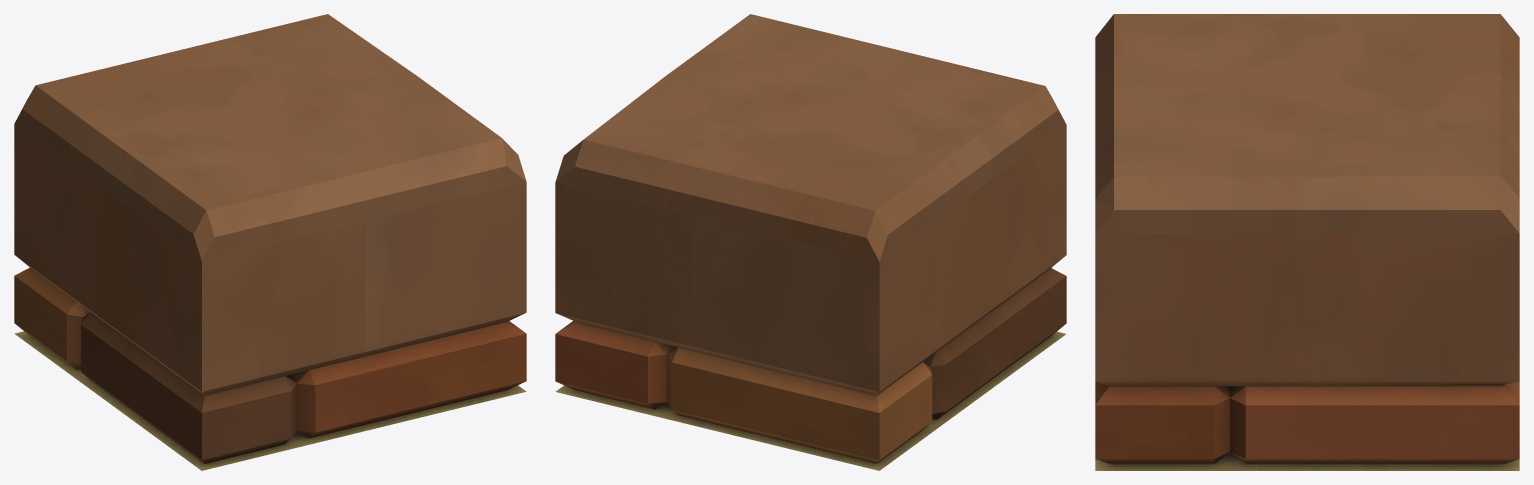
Rendered from I-Mur1A.FBX.
The picture shows the model from 3 angles, left to right: view 1: azimuth 30°, elevation 25°; view 2: azimuth 150°, elevation 25°; view 3: azimuth 270°, elevation 25°; orthographic projection. The views are drawn at different scales.
Parts seen in each view (by area): view 1: I-Mur; view 2: I-Mur; view 3: I-Mur.
Part boxes in pixels (bbox=[...]): I-Mur: bbox=[14, 14, 526, 470]; I-Mur: bbox=[555, 14, 1066, 470]; I-Mur: bbox=[1095, 14, 1519, 470].
Bounding box in the file's own units: 2 × 1.48 × 2.
